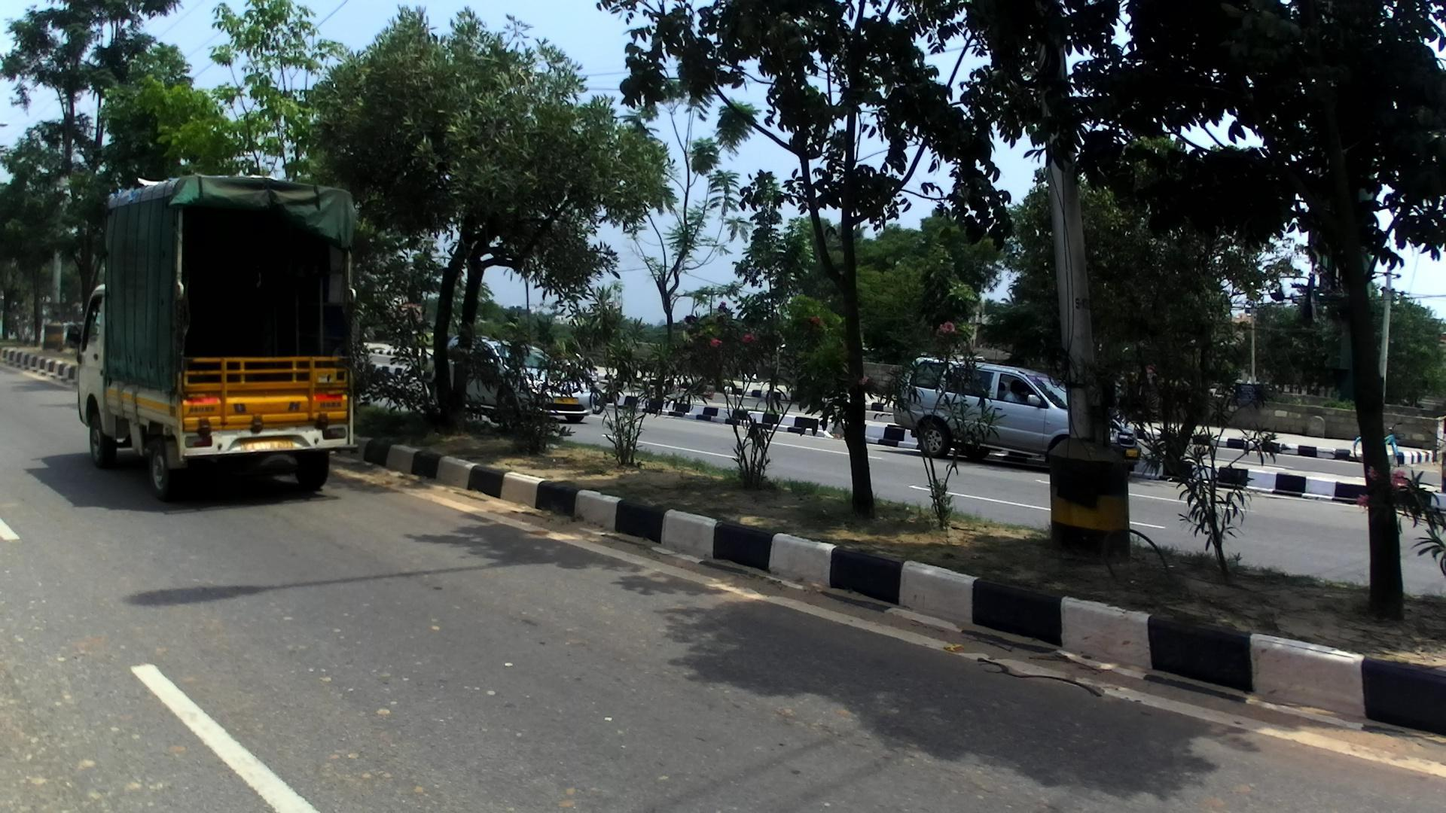streetlight: (1, 121, 12, 132)
